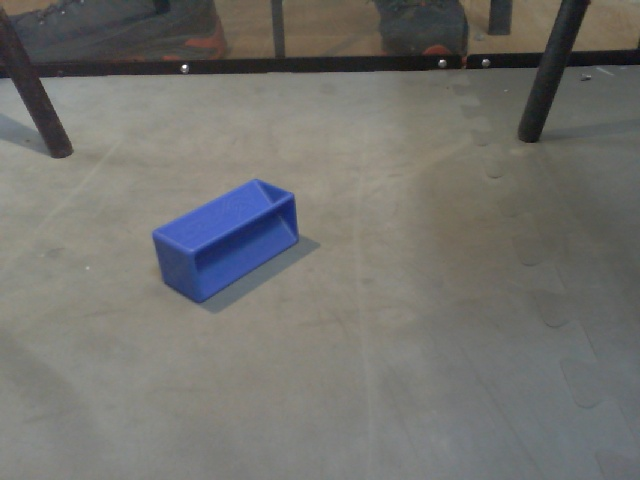BlueSample: (147, 171, 301, 304)
